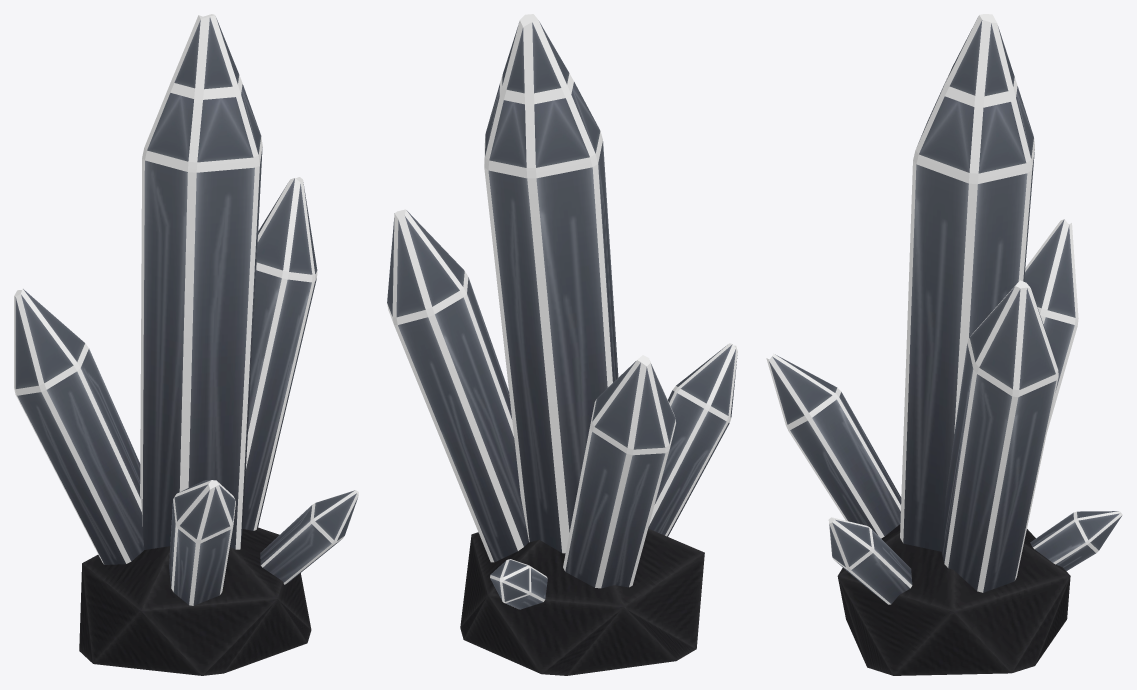
The model's file is space_crystal.glb.
3 renders of one model, left to right at view 1: azimuth 30°, elevation 25°; view 2: azimuth 150°, elevation 25°; view 3: azimuth 270°, elevation 25°, orthographic. The views are drawn at different scales.
Visible parts, largest first — view 1: Energy_Crystal; view 2: Energy_Crystal; view 3: Energy_Crystal.
Boxes of the visible parts, x1=… form: Energy_Crystal: x1=14, y1=14, x2=358, y2=675; Energy_Crystal: x1=387, y1=14, x2=737, y2=675; Energy_Crystal: x1=766, y1=14, x2=1122, y2=675.
Size of the model in its own units: 1.95 by 3.9 by 2.
1 material, 1 textured.
